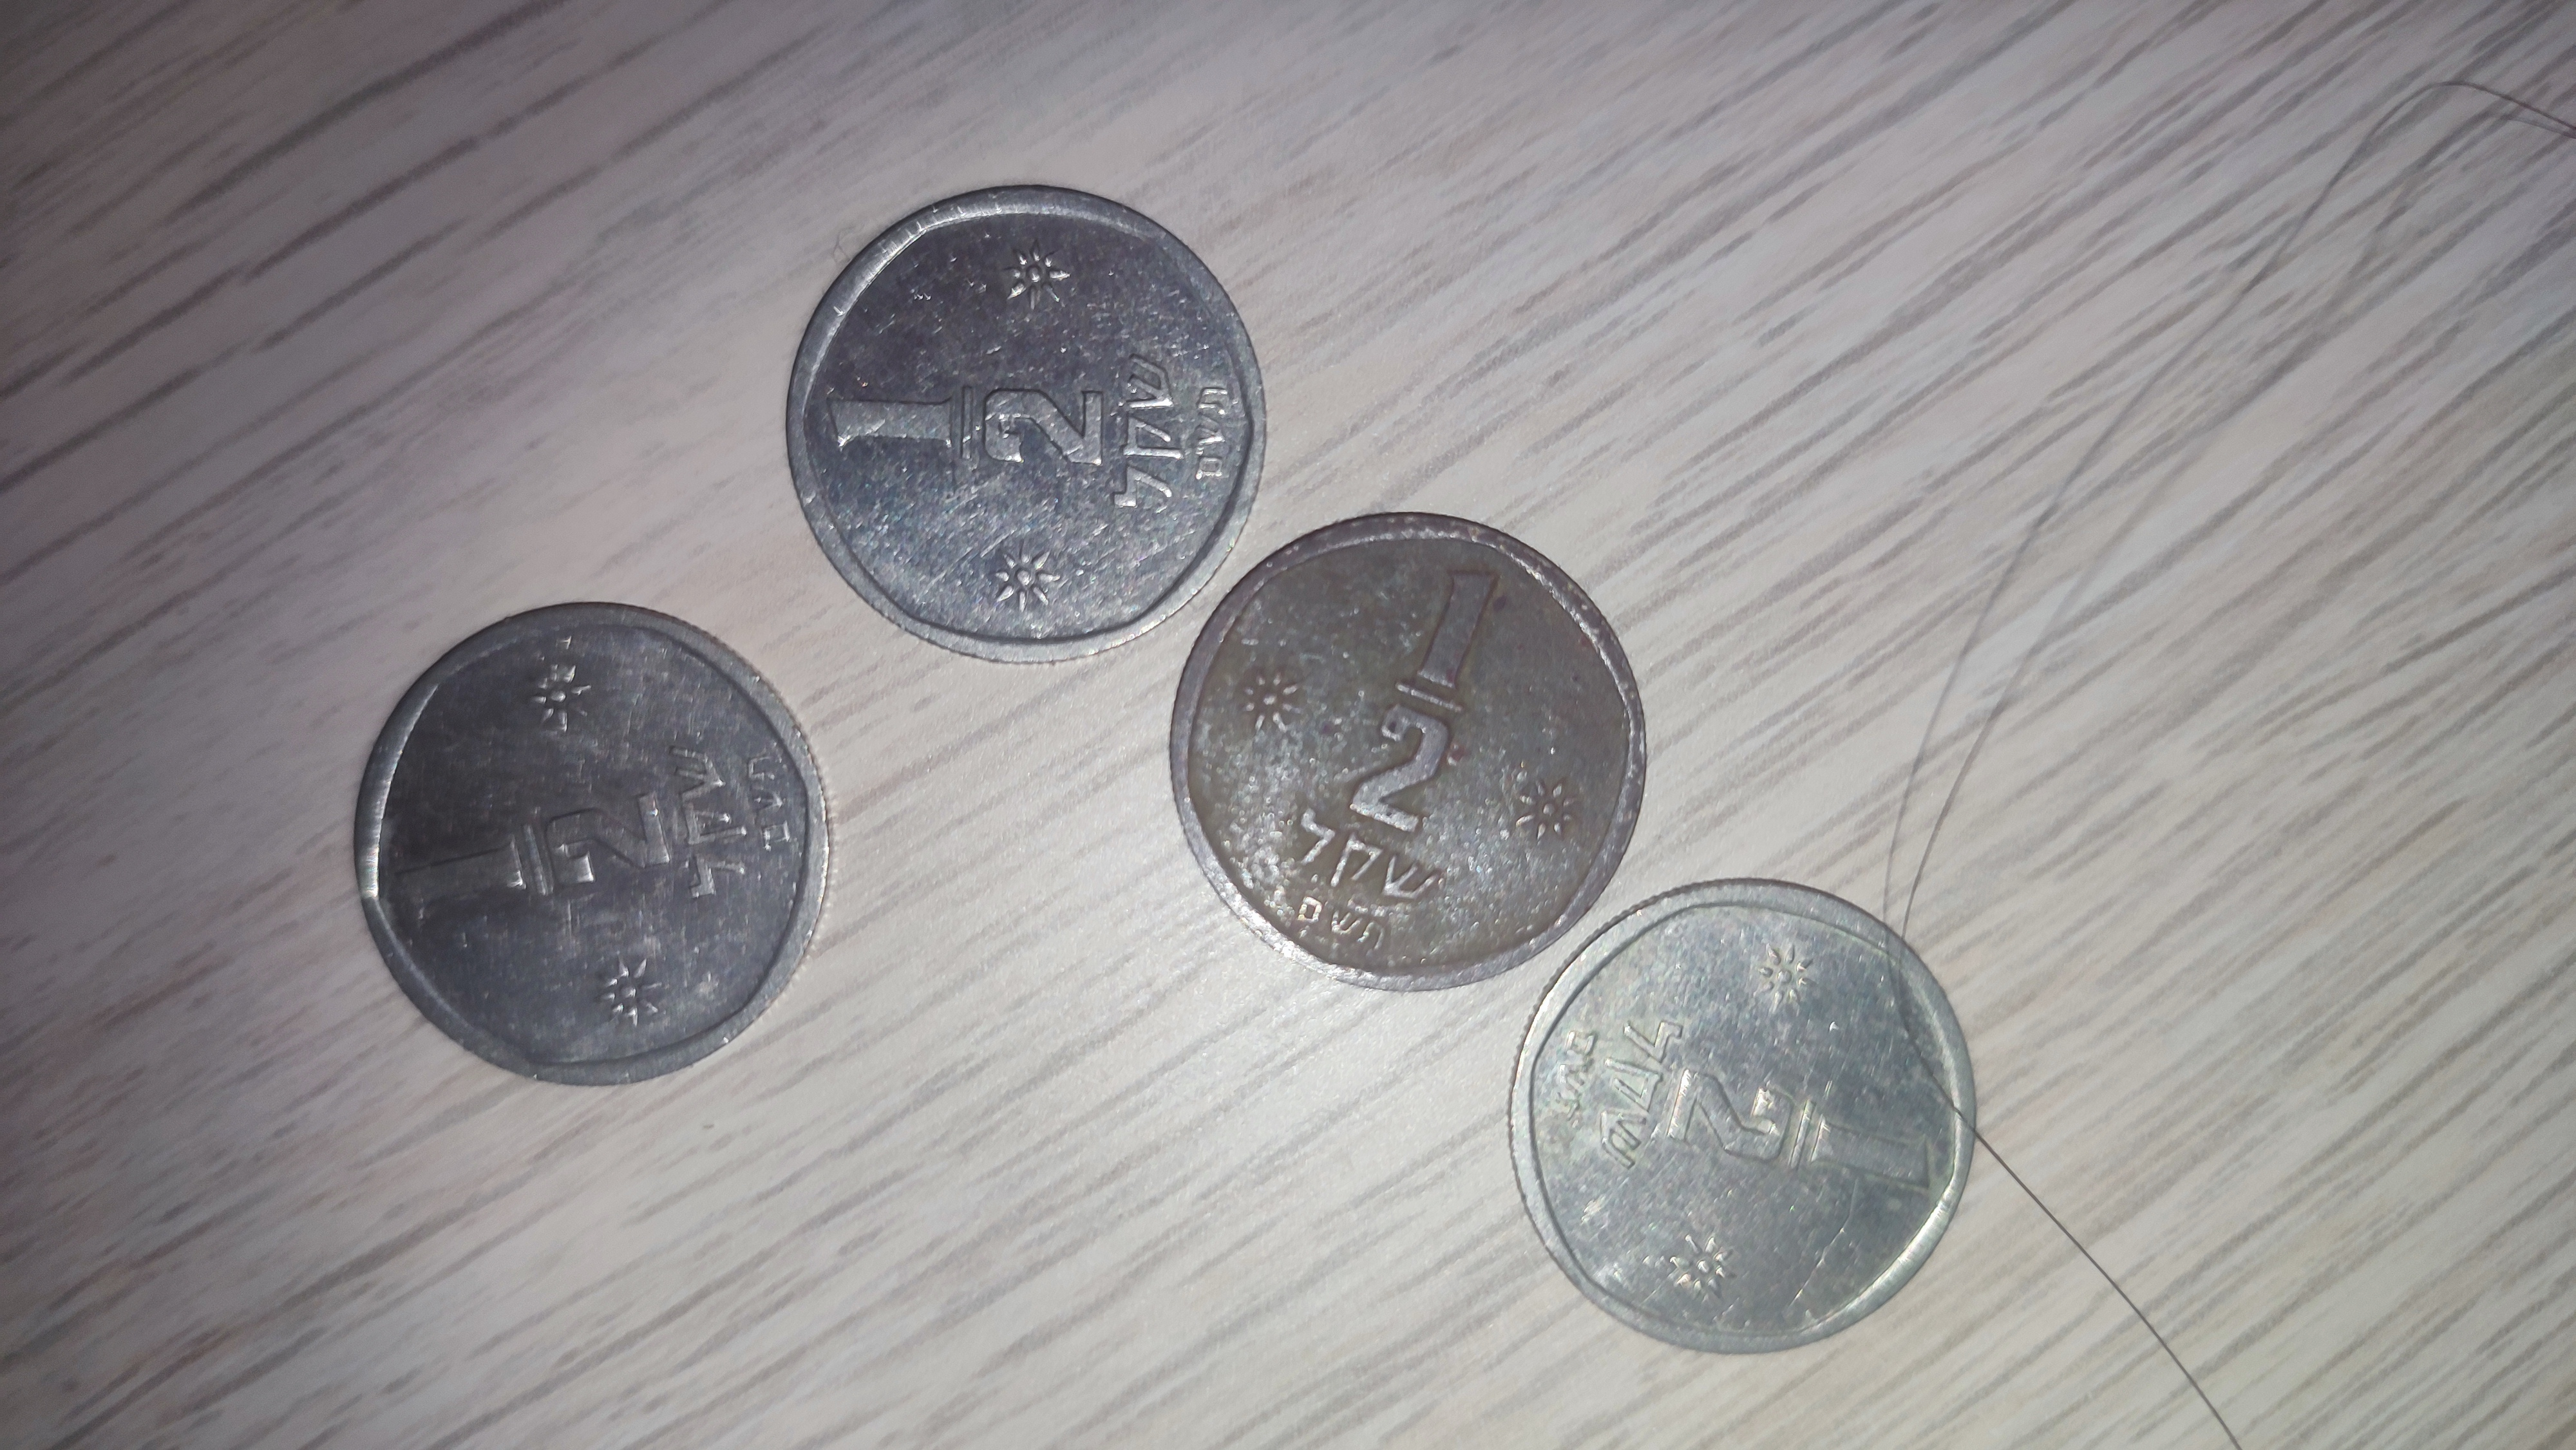1/2 old sheqel: (1155, 497, 1660, 1003), (341, 591, 842, 1095), (777, 173, 1279, 672), (1500, 870, 1989, 1360)
